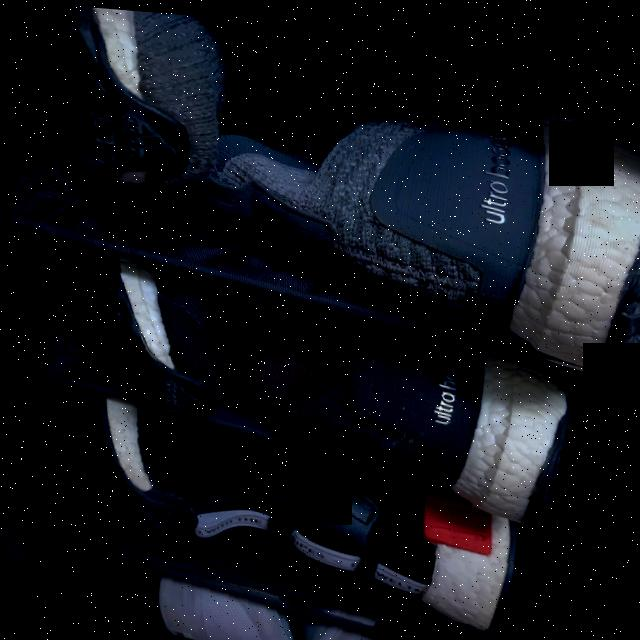shoe: (10, 1, 640, 370), (0, 211, 640, 515), (0, 366, 620, 640), (1, 519, 597, 640)
